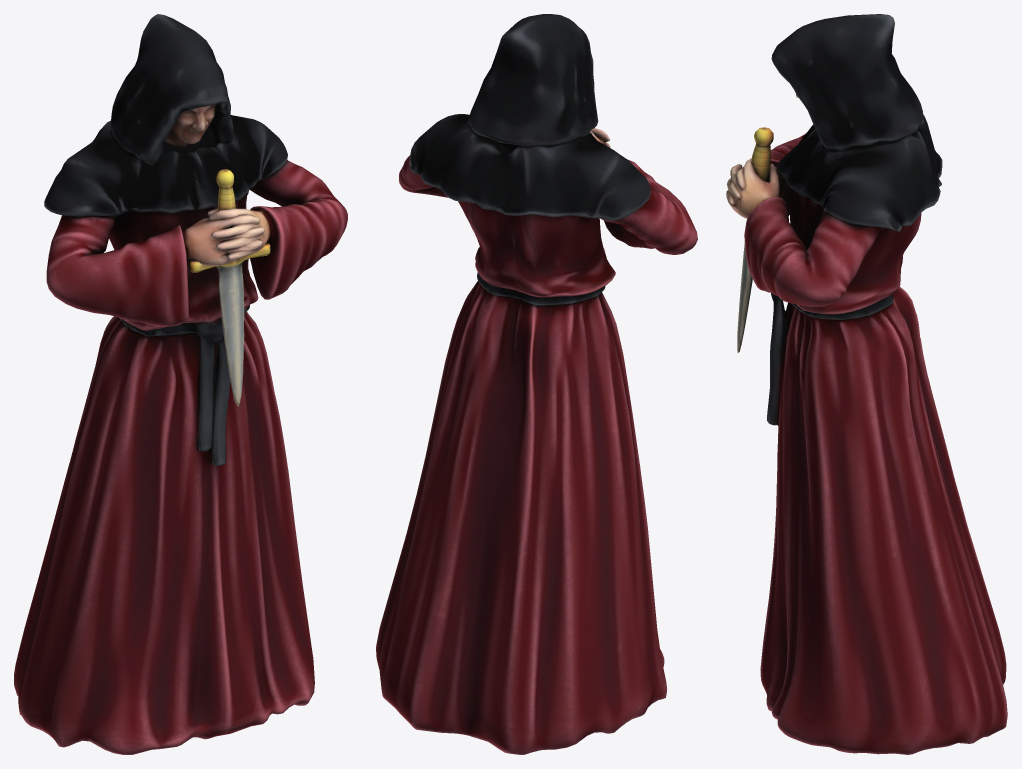
File: MZ4250 - Cultist.glb
3 renders of one model, left to right at view 1: azimuth 30°, elevation 25°; view 2: azimuth 150°, elevation 25°; view 3: azimuth 270°, elevation 25°, orthographic. The views are drawn at different scales.
Parts seen in each view (by area): view 1: body_low.001, dagger_low.001; view 2: body_low.001; view 3: body_low.001, dagger_low.001.
Part boxes in pixels (x1,y1,x2,y2): body_low.001: [14, 14, 347, 754]; dagger_low.001: [188, 169, 270, 406]; body_low.001: [376, 14, 697, 754]; body_low.001: [726, 14, 1007, 754]; dagger_low.001: [737, 127, 773, 353].
Bounding box in the file's own units: 2.96 × 6.59 × 2.42.
1 material, 1 textured.
